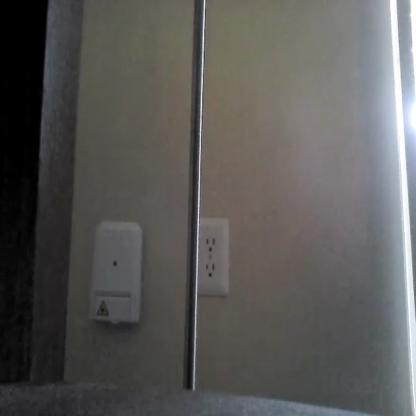OUTLET: (198, 217, 230, 297)
